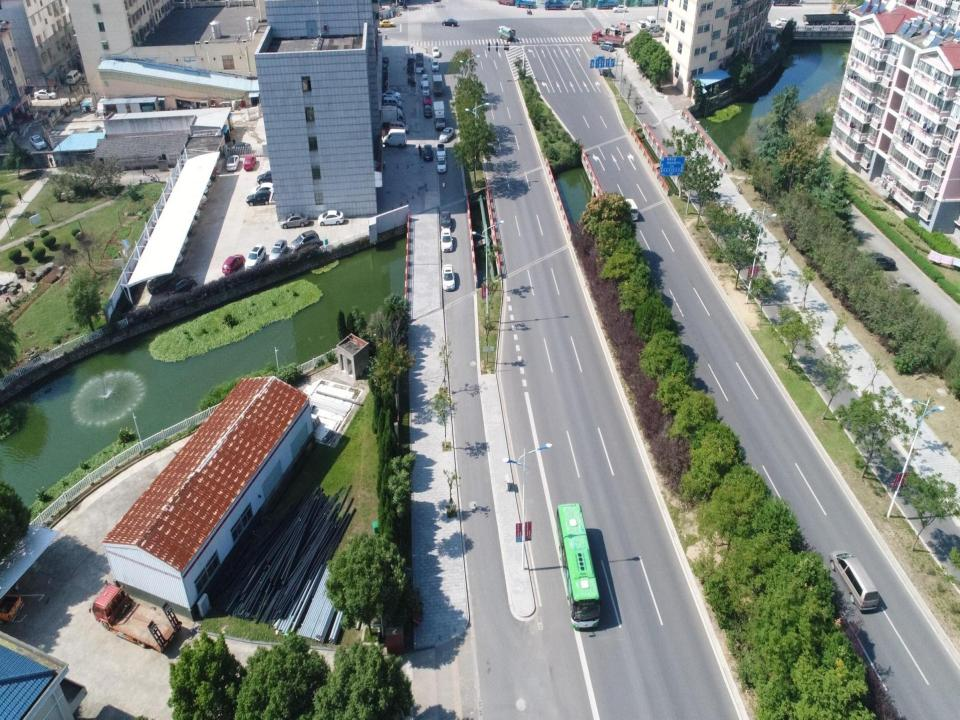bus: (554, 499, 600, 632), (829, 543, 881, 616)
car: (290, 230, 320, 254), (316, 207, 348, 228), (242, 243, 266, 269), (867, 252, 896, 273), (149, 267, 172, 293), (885, 277, 916, 296), (280, 212, 311, 230), (269, 234, 288, 262), (219, 254, 244, 275), (246, 189, 270, 210), (169, 277, 196, 295), (33, 86, 58, 105), (439, 264, 455, 292), (439, 226, 455, 252), (189, 167, 216, 181), (241, 154, 260, 172), (28, 132, 46, 150), (181, 197, 202, 212), (158, 253, 183, 265), (164, 233, 189, 245), (180, 206, 201, 220), (254, 181, 272, 197), (170, 224, 194, 236), (160, 242, 186, 253), (377, 17, 397, 31), (439, 206, 451, 229), (175, 216, 196, 229), (65, 69, 81, 86), (420, 97, 432, 119), (188, 192, 207, 205), (224, 156, 240, 170), (437, 158, 448, 177), (437, 142, 448, 161), (190, 182, 209, 193), (258, 169, 271, 185), (192, 177, 212, 187), (380, 90, 404, 98), (443, 15, 460, 26), (431, 45, 441, 61), (423, 144, 433, 160), (420, 72, 431, 86), (422, 82, 431, 98), (612, 3, 626, 13), (432, 57, 441, 70), (636, 20, 646, 31), (445, 128, 454, 140)
truck: (594, 30, 626, 46), (498, 25, 516, 39), (545, 0, 564, 11), (595, 0, 615, 9), (515, 0, 535, 8), (498, 0, 514, 5)
van: (594, 55, 618, 77), (386, 129, 410, 148), (624, 196, 642, 221), (434, 98, 446, 132), (386, 94, 403, 109), (571, 0, 585, 13), (775, 15, 788, 29), (601, 40, 616, 52), (646, 15, 657, 29), (618, 19, 630, 30), (605, 26, 619, 35)
